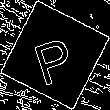P_N: (30, 25, 80, 85)
